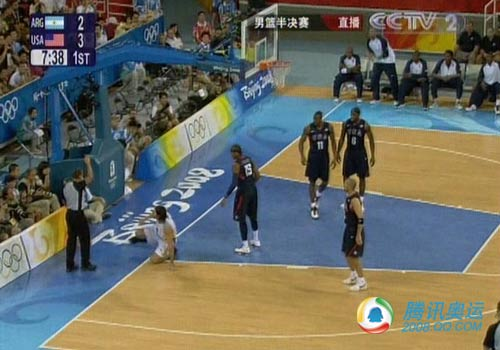10+: (1, 1, 500, 349)
down: (124, 201, 187, 279)
